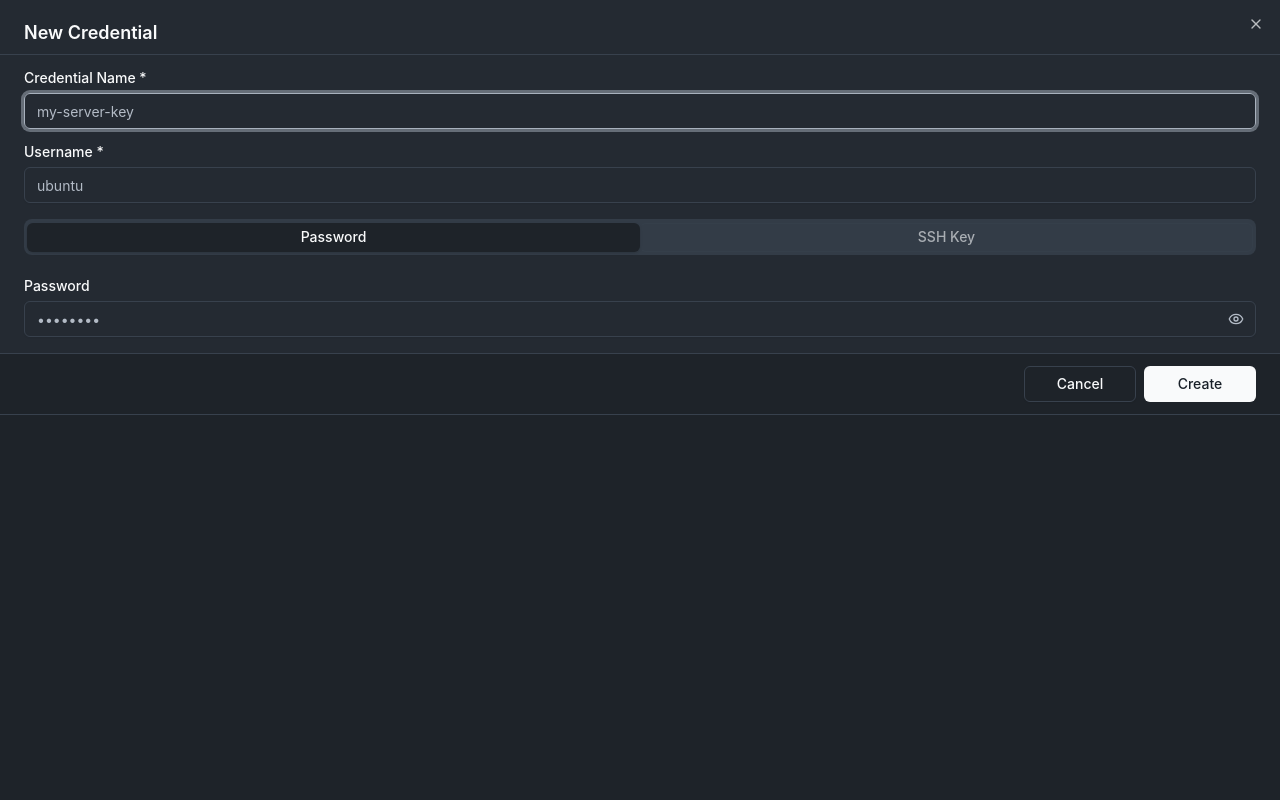
Test: CredentialForm SSH key source toggle › requires a value when paste-key is empty
The width and height of the screenshot is (1280, 800).
Type "x" into the field labelled "Credential Name *".
click(640, 111); type("x")  # box [24,93,1256,129]
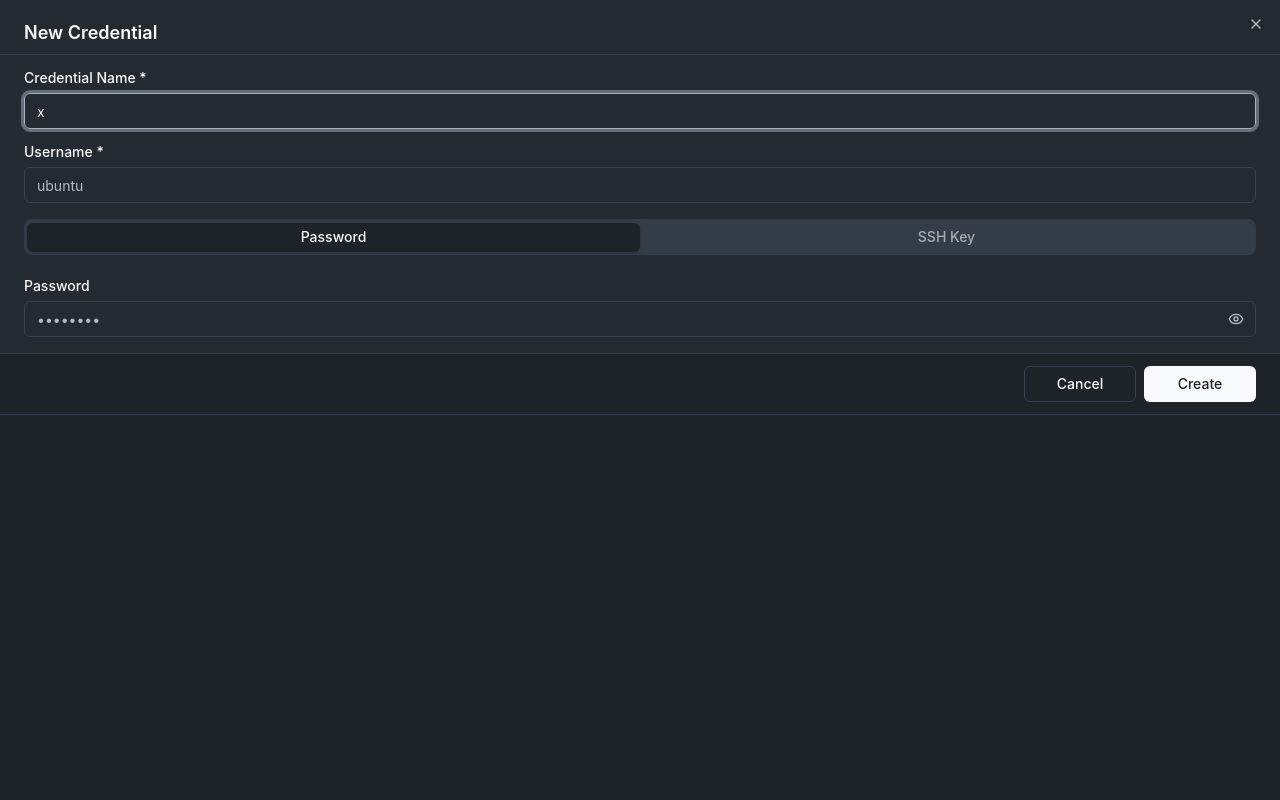
Type "y" into the field labelled "Username *".
click(640, 185); type("y")  # box [24,167,1256,203]
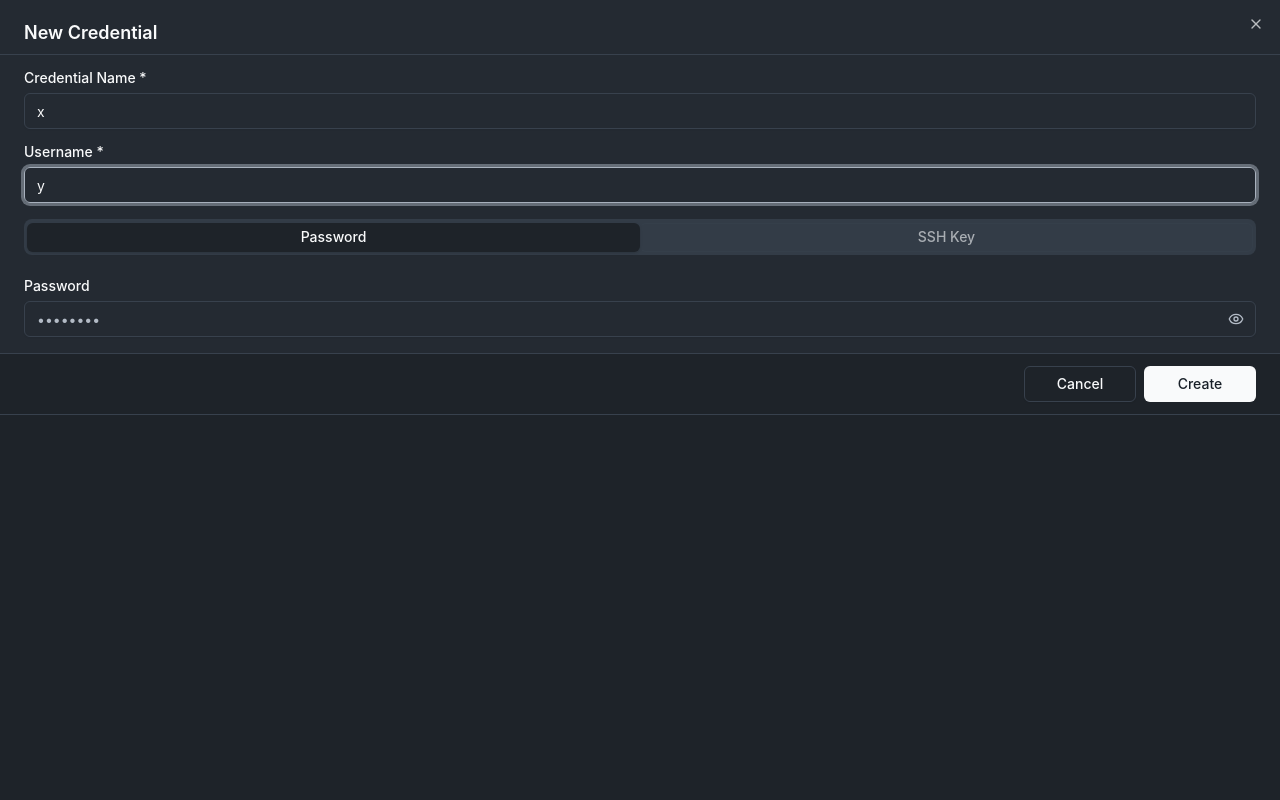
Click the tab "SSH Key".
click(946, 237)  # box [640,222,1253,252]
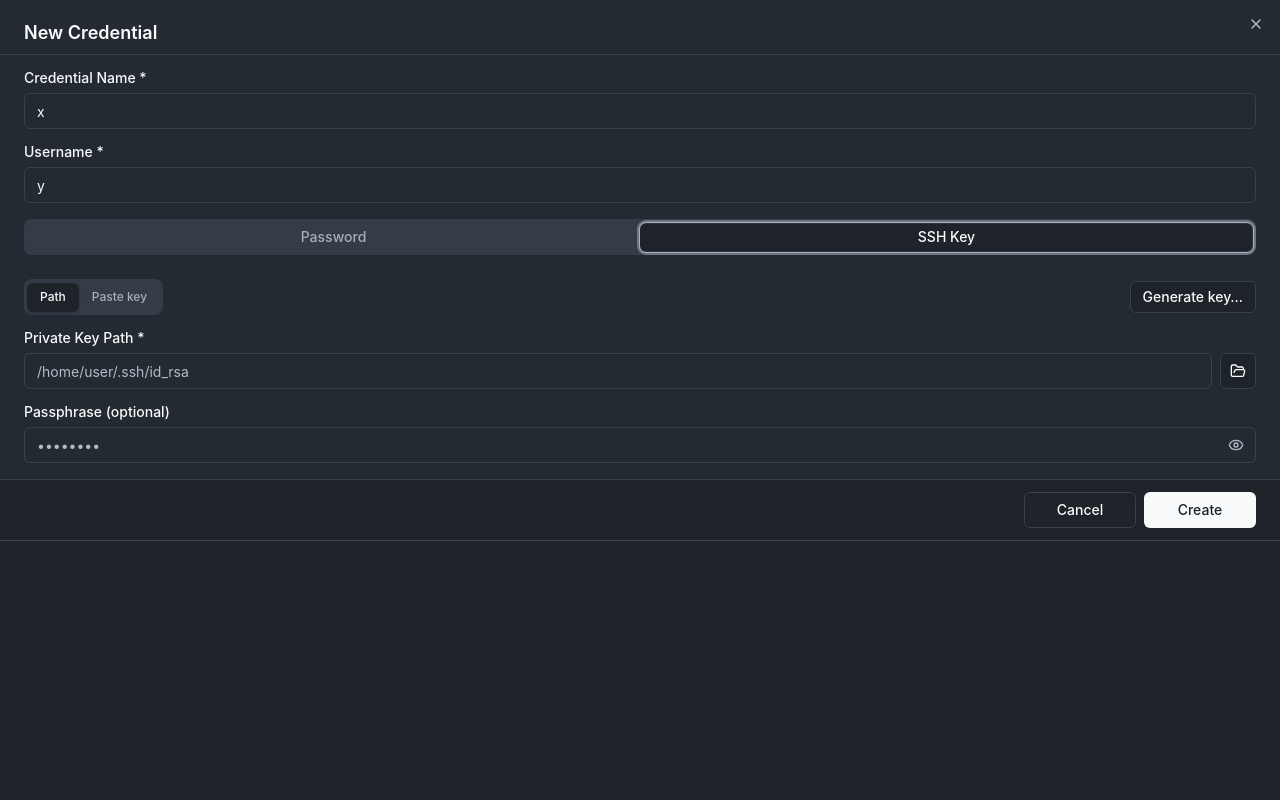
Click the tab "Paste key".
click(119, 297)  # box [79,282,160,312]
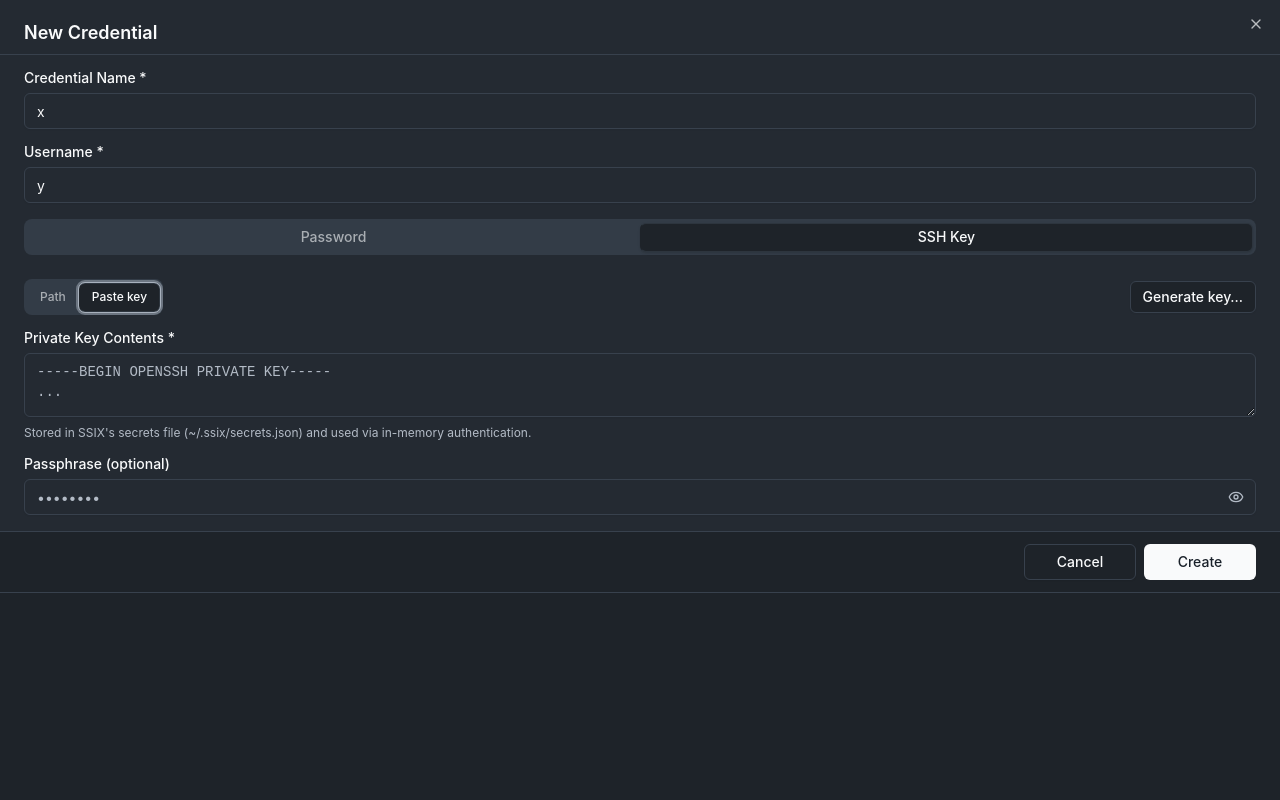
Click the button "Create".
click(1200, 562)  # box [1144,544,1256,580]
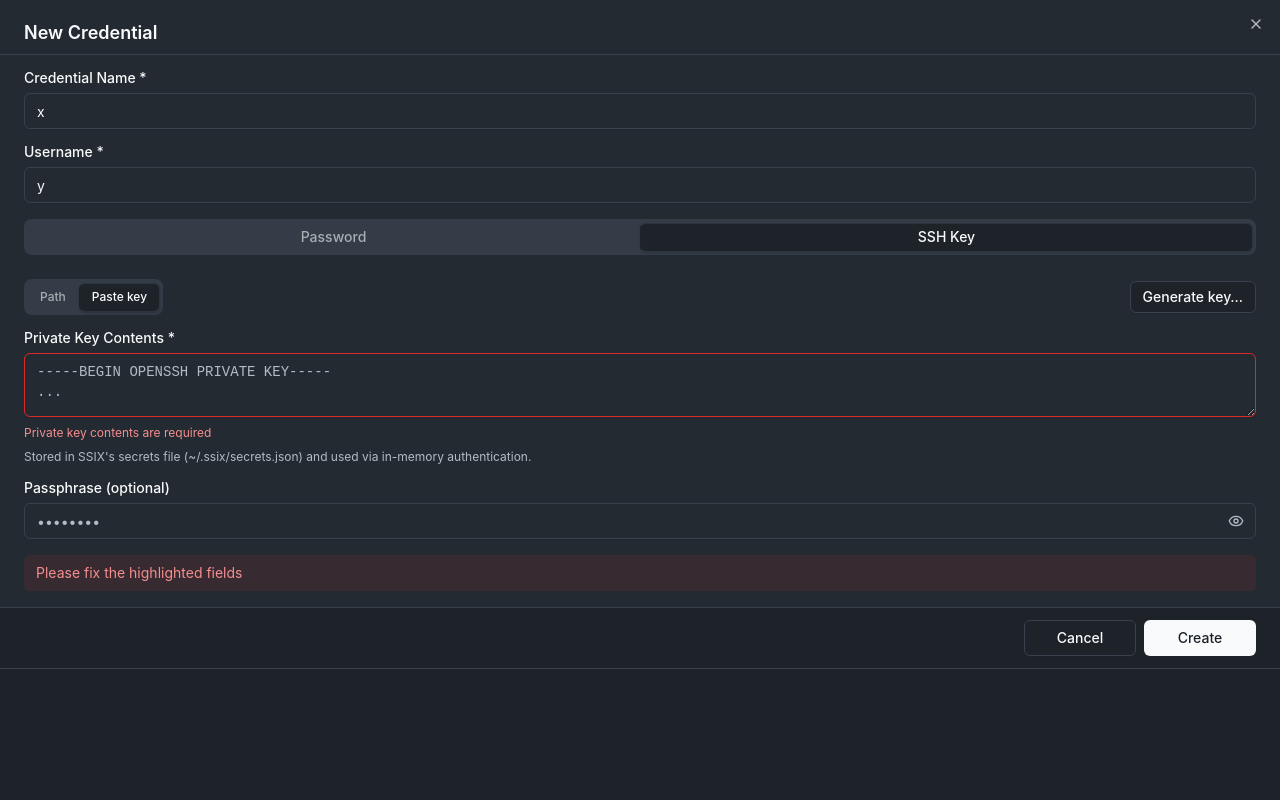
Now the text "Private key contents are required" is shown, box [24,425,211,440]
